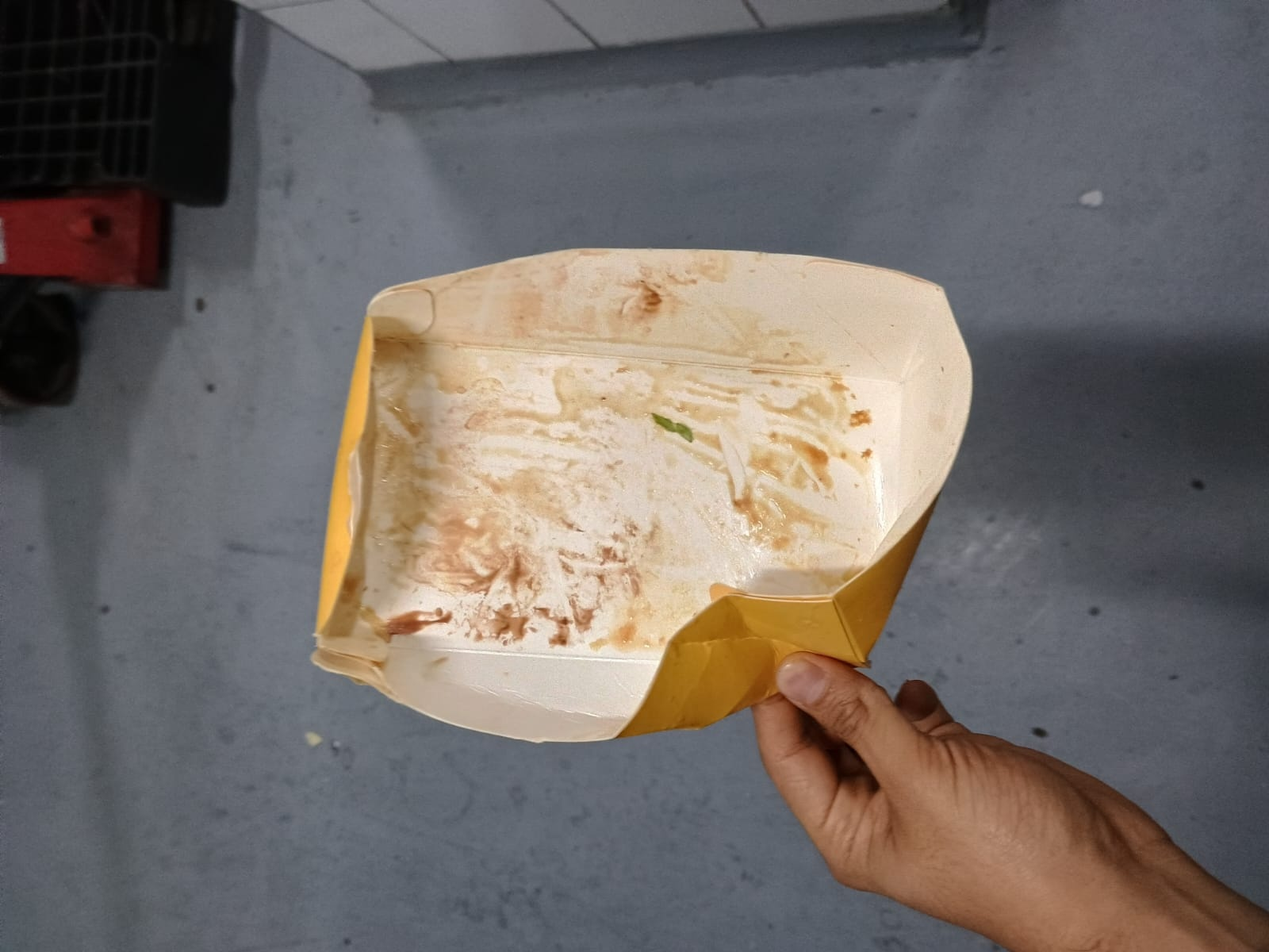Ordinario: (311, 247, 976, 745)
